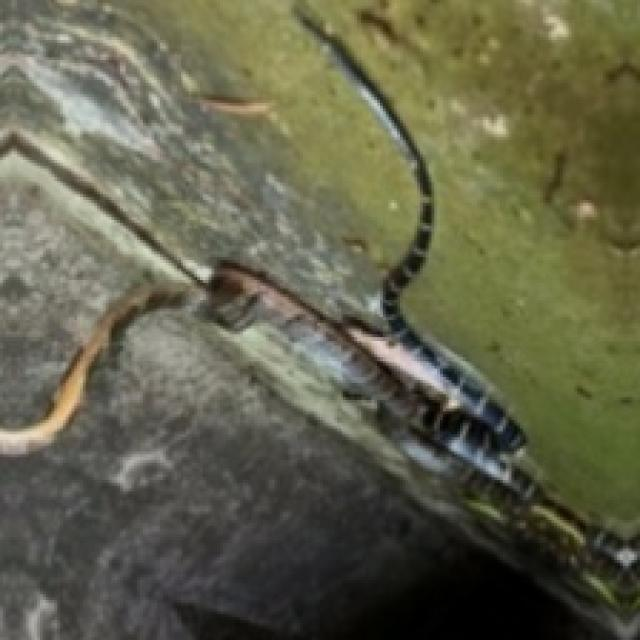king cobra: (0, 0, 637, 637), (420, 86, 617, 237), (197, 257, 346, 386), (589, 240, 637, 266)
